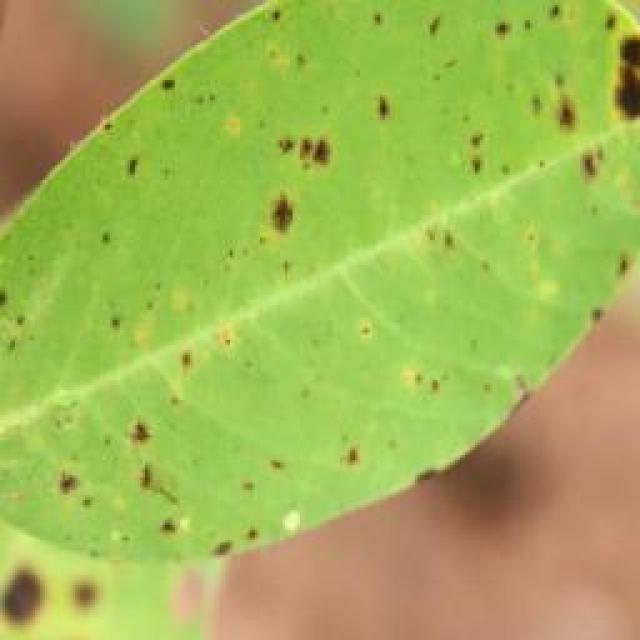Yellowish: (49, 0, 640, 613)
